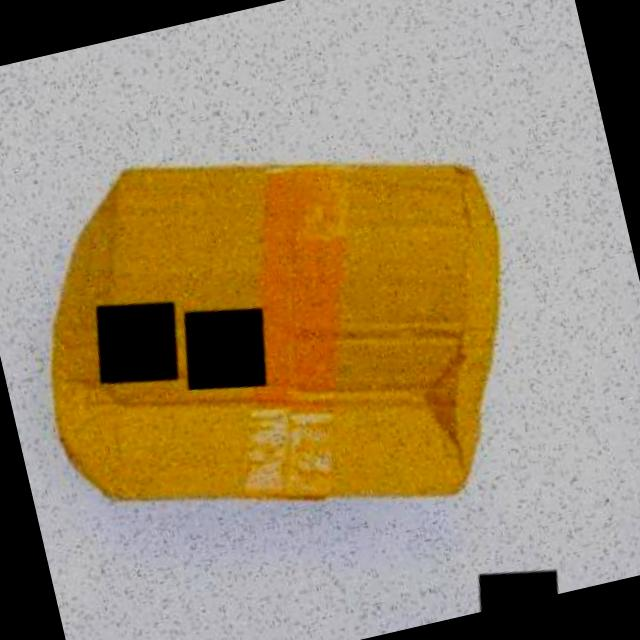box: (0, 71, 570, 596)
